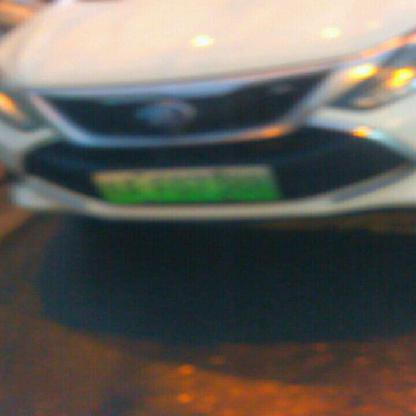lp: (92, 166, 274, 203)
